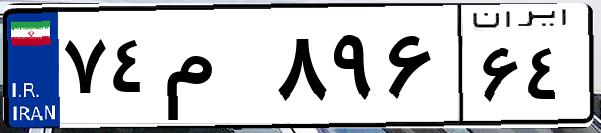4: (525, 38, 570, 115), (110, 28, 158, 98)
6: (385, 28, 445, 110), (475, 38, 525, 113)
7: (57, 26, 110, 100)
8: (270, 28, 330, 110)
9: (330, 28, 385, 110)
م: (158, 20, 270, 120)
